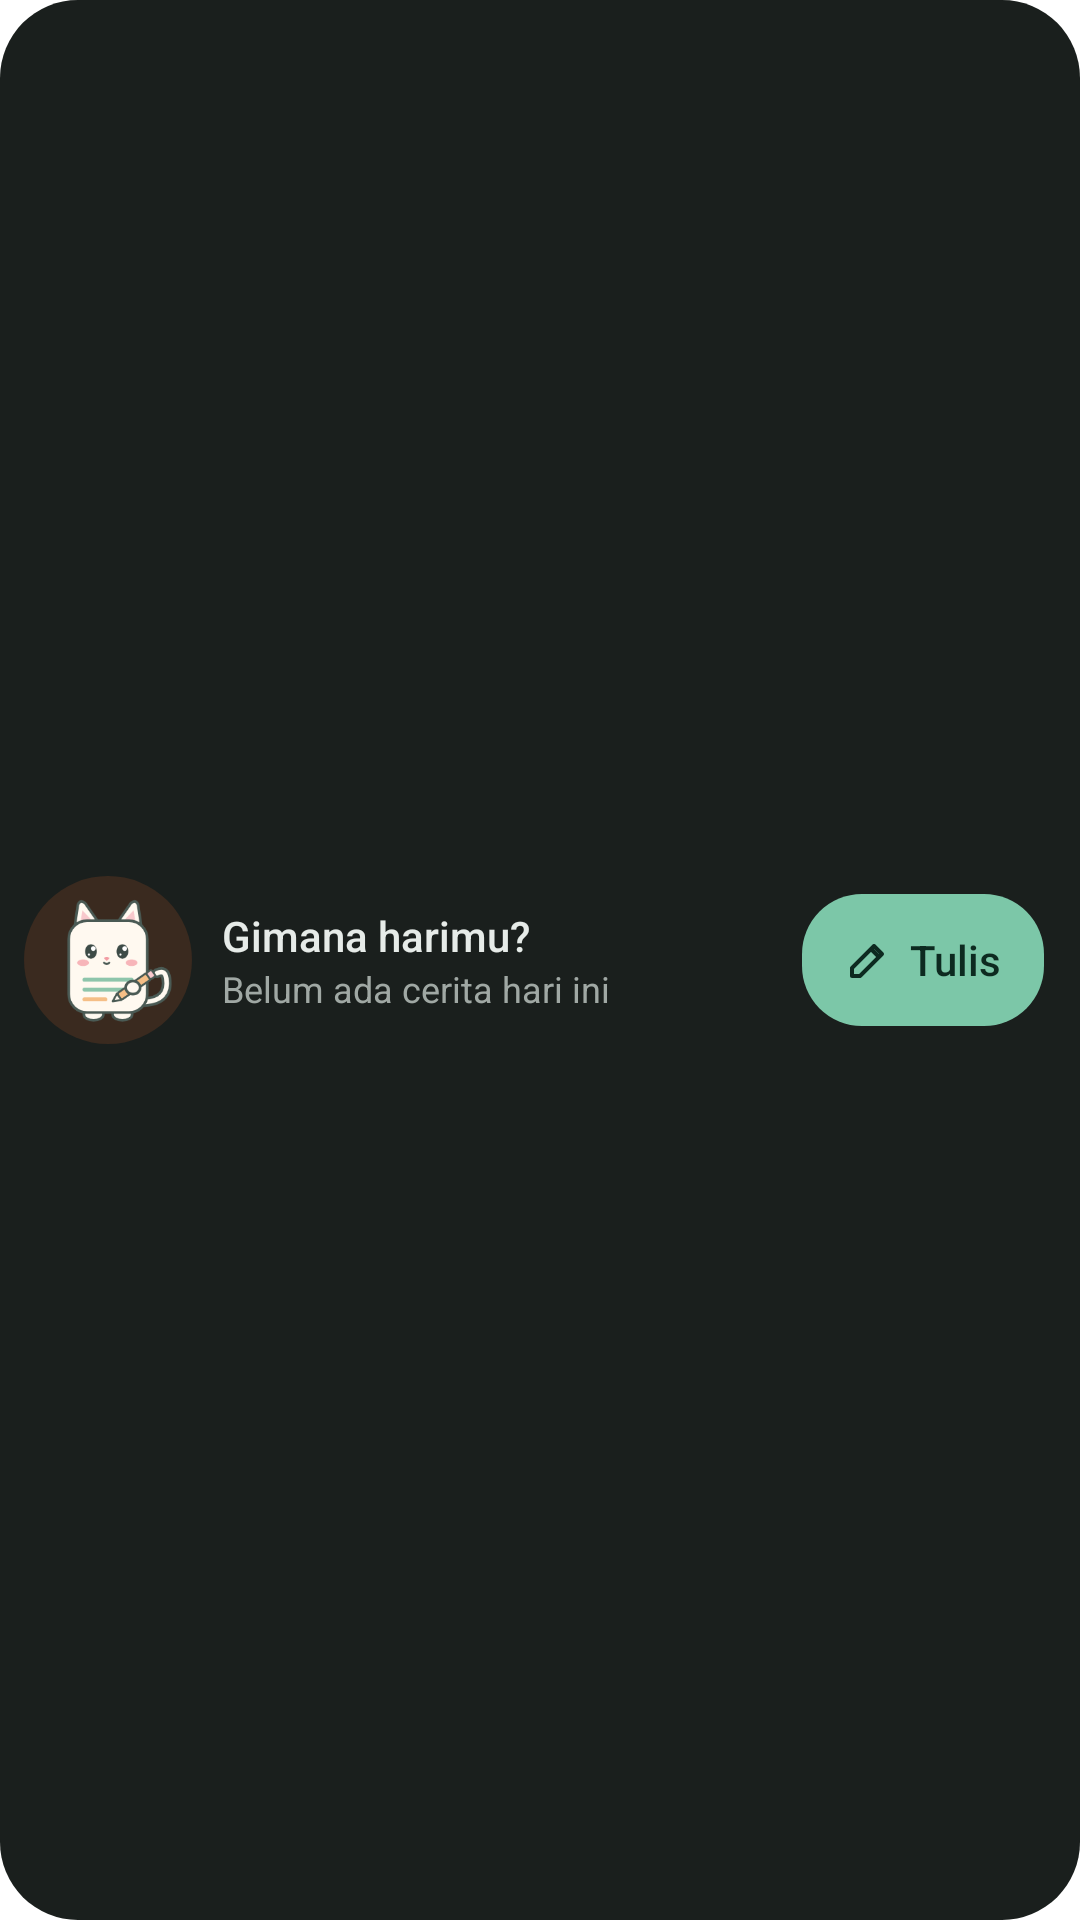

Screen size 1080 x 1920. Icon name, then its center in pixels as (x,y):
widget kucing menulis: (108,960)
widget pen: (867,961)
